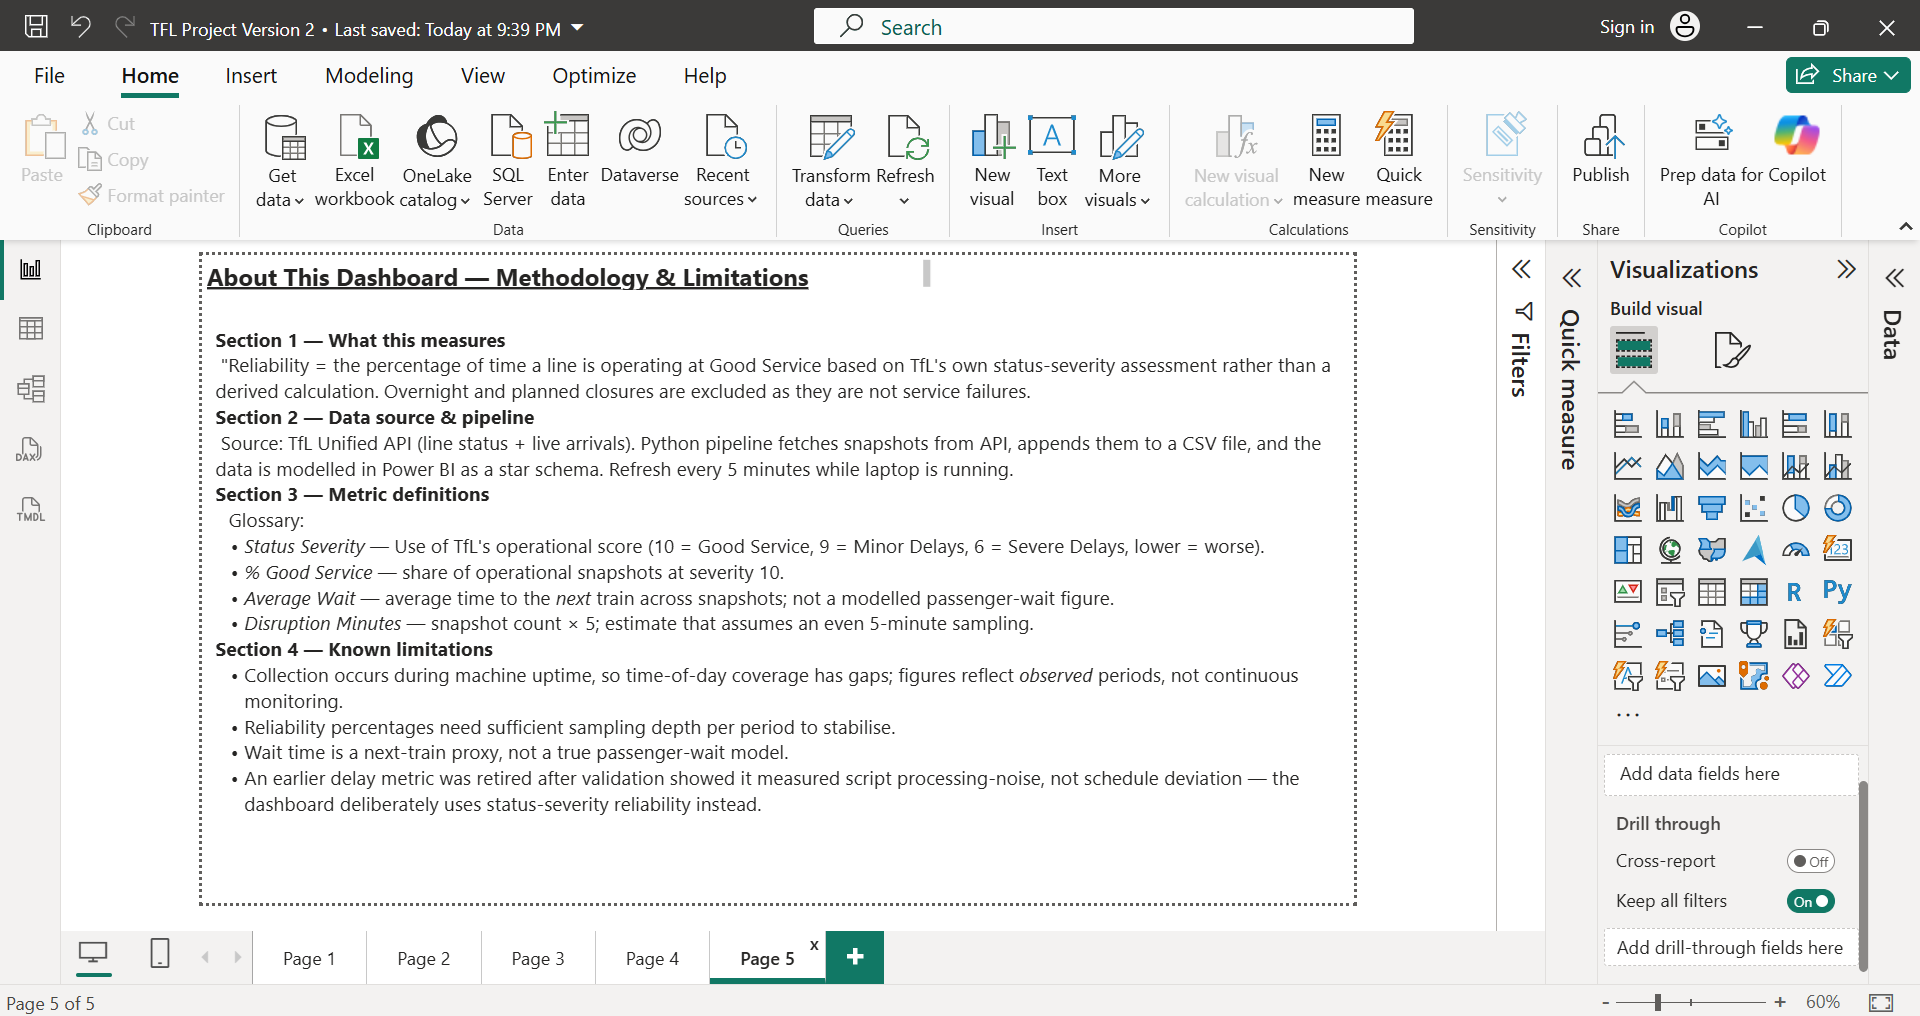

The dashboard page shown, as its layout file describes it:
{"tool":"powerbi","page":{"name":"Page 5","canvas":[1280,720],"ordinal":4},"visuals":[{"type":"textbox","box":[9.5,55.7,1270.9,607.6],"z":0},{"type":"textbox","box":[0,0,814.4,42.9],"z":1000}]}

Visuals, with their boxes on the page's 1280x720 design canvas (x1, y1, x2, y2). These are canvas units, not pixel positions in the 1920x1016 screenshot, which may show the page scaled, cropped or inside an application window:
textbox: (x1=10, y1=56, x2=1280, y2=663)
textbox: (x1=0, y1=0, x2=814, y2=43)
